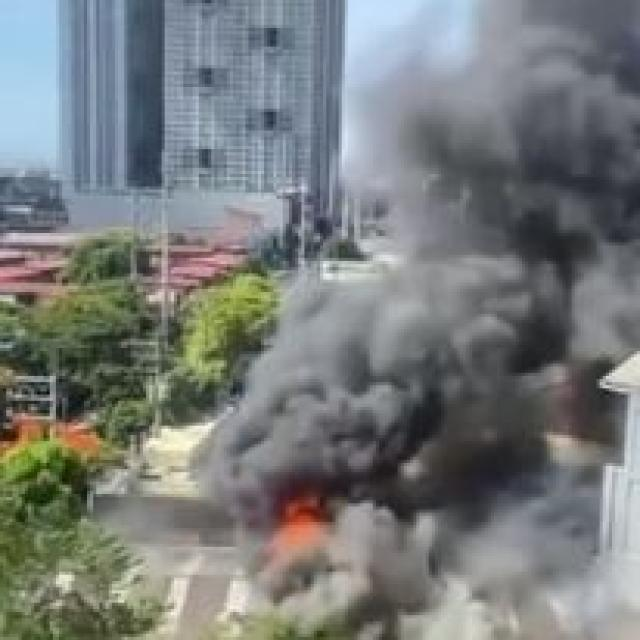Fire: (256, 482, 346, 560)
Smoke: (197, 245, 600, 640), (333, 0, 640, 345)
